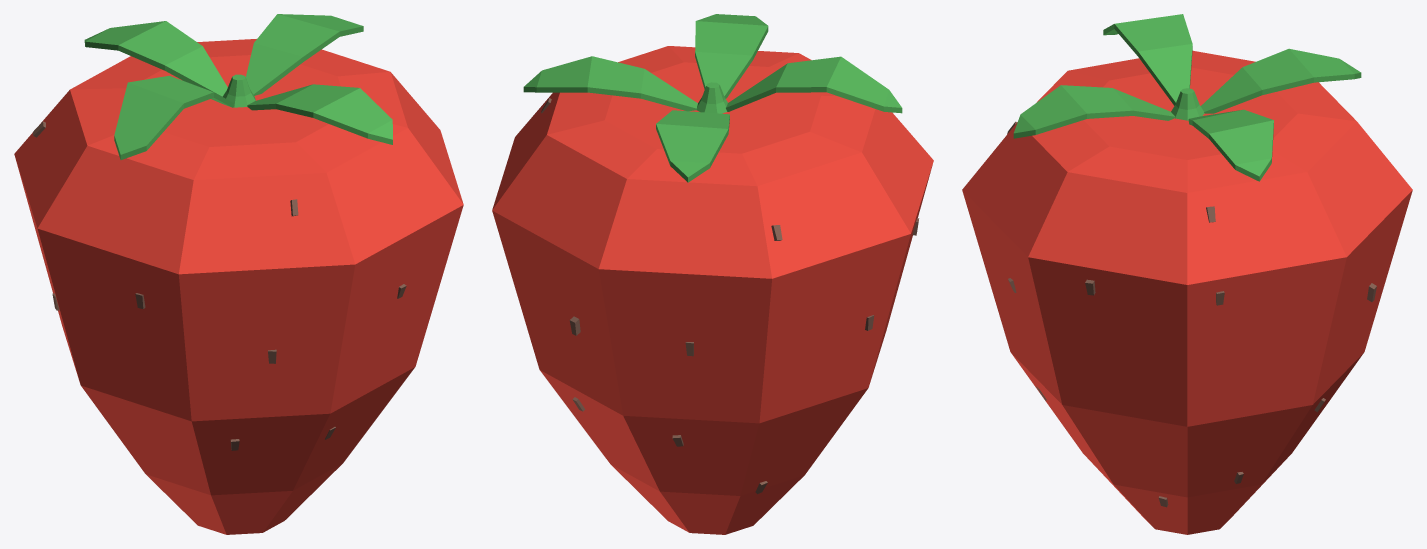
File: strawberry.glb
3 views of the same model, side by side, from view 1: azimuth 30°, elevation 25°; view 2: azimuth 150°, elevation 25°; view 3: azimuth 270°, elevation 25° (orthographic). The views are drawn at different scales.
Parts seen in each view (by area): view 1: node-0; view 2: node-0; view 3: node-0.
Part boxes in pixels (bbox=[...]): node-0: bbox=[14, 14, 463, 534]; node-0: bbox=[492, 14, 933, 534]; node-0: bbox=[962, 14, 1412, 534].
Bounding box in the file's own units: 8.74 × 9.97 × 8.74.
